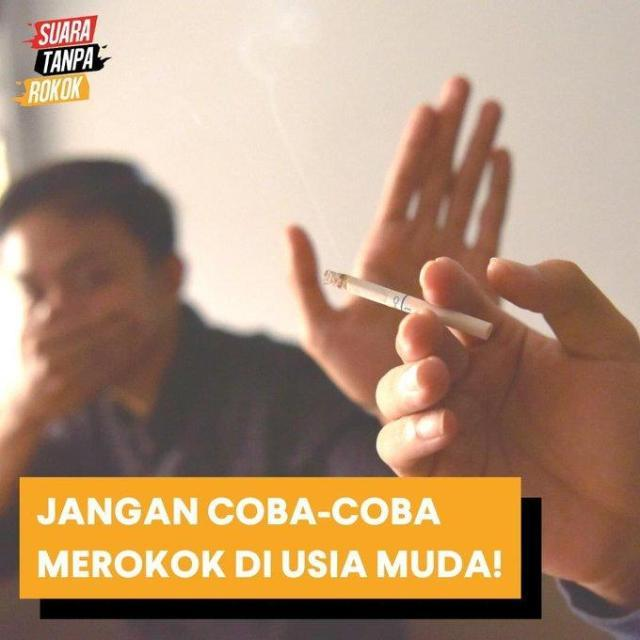rokok: (316, 263, 494, 349)
